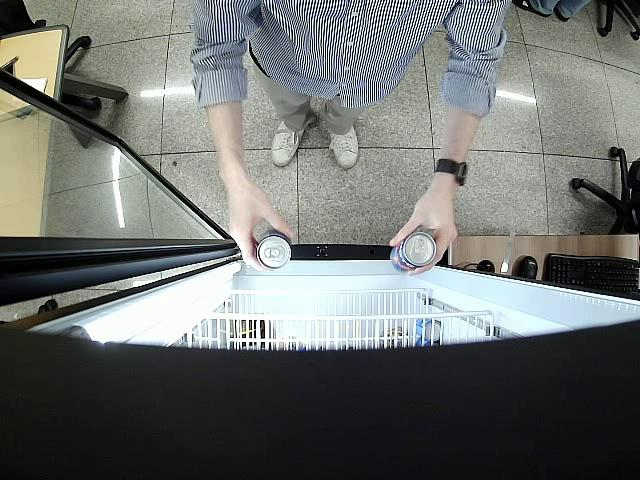00_hand: (227, 182, 293, 274), (389, 194, 457, 275)
16_hot6: (389, 232, 437, 274), (255, 227, 292, 270)
